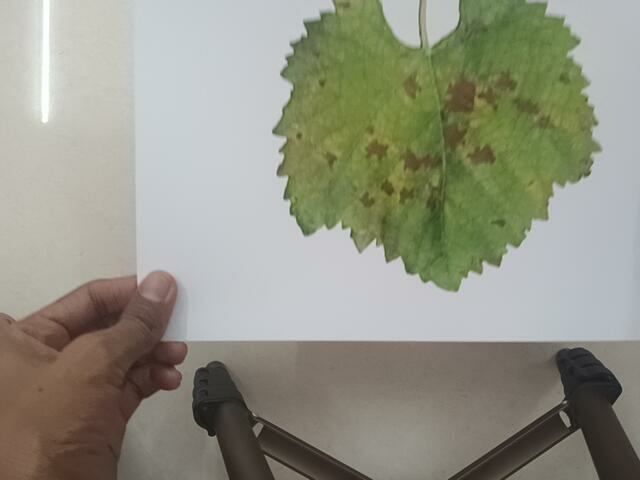Grape_Leaf_Vine_Disease: (243, 17, 582, 298)
